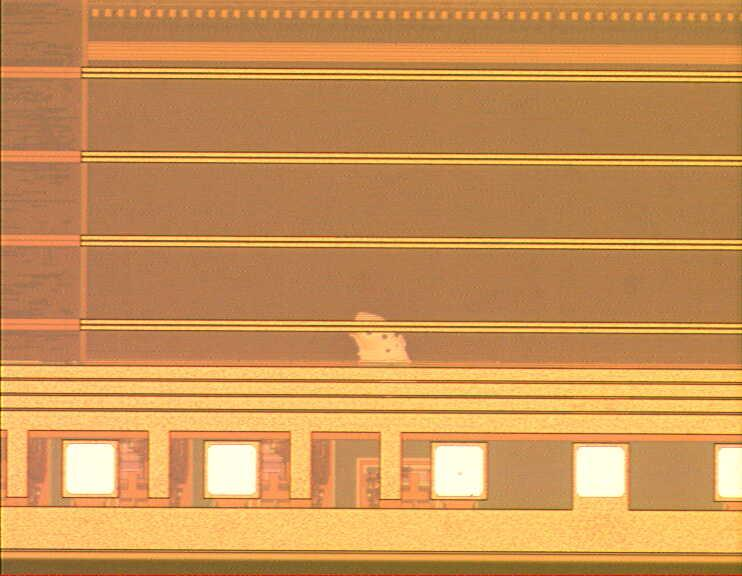BLOCK ETCH: (345, 303, 417, 373)
